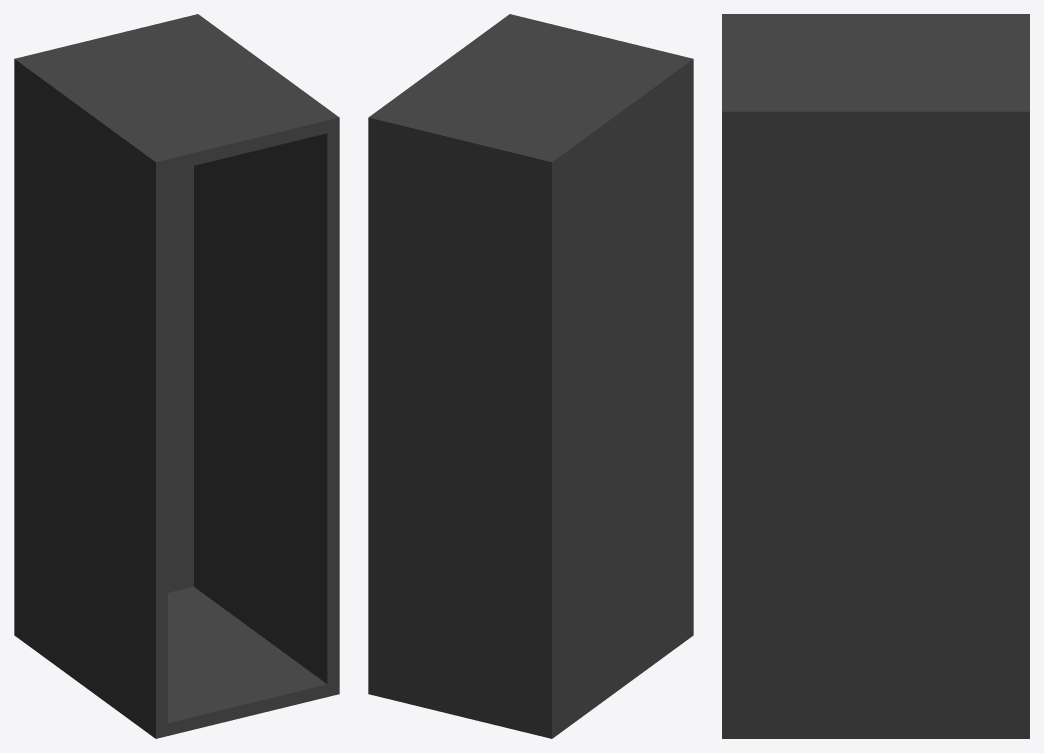
The model's file is Kitchen1_C3_09.fbx.
3 renders of one model, left to right at view 1: azimuth 30°, elevation 25°; view 2: azimuth 150°, elevation 25°; view 3: azimuth 270°, elevation 25°, orthographic. The views are drawn at different scales.
Visible parts, largest first — view 1: Kitchen1_C3_09; view 2: Kitchen1_C3_09; view 3: Kitchen1_C3_09.
Part boxes in pixels (x1,y1,x2,y2): Kitchen1_C3_09: [14, 14, 339, 738]; Kitchen1_C3_09: [368, 14, 693, 738]; Kitchen1_C3_09: [722, 14, 1029, 738].
Bounding box in the file's own units: 30 × 90 × 40.
